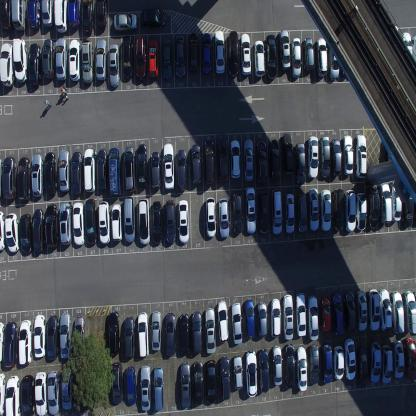car: (3, 320, 18, 369), (12, 37, 28, 82), (108, 146, 121, 197), (0, 42, 15, 86), (18, 318, 32, 365), (2, 156, 17, 199), (45, 203, 59, 248), (20, 373, 35, 415), (245, 349, 258, 397), (68, 38, 82, 82), (5, 212, 20, 253), (5, 374, 20, 415), (137, 311, 150, 358), (123, 146, 136, 193), (17, 155, 30, 202), (46, 314, 59, 361), (28, 43, 41, 89), (83, 147, 96, 193), (47, 370, 60, 416), (138, 197, 150, 246), (378, 182, 392, 224), (134, 35, 147, 80), (281, 131, 294, 176), (33, 313, 46, 358), (264, 33, 276, 81), (123, 195, 135, 243), (204, 306, 216, 354), (282, 292, 294, 340), (366, 187, 380, 228), (81, 40, 94, 84), (98, 201, 111, 245), (379, 287, 392, 331), (403, 289, 416, 333), (72, 202, 85, 246), (59, 202, 72, 246), (32, 208, 45, 252), (108, 310, 121, 354), (85, 197, 97, 244), (296, 345, 308, 392), (110, 361, 123, 404), (203, 139, 215, 185), (136, 142, 148, 188), (328, 35, 340, 81), (179, 362, 191, 408), (307, 295, 319, 341), (35, 370, 47, 416), (42, 38, 55, 80), (315, 36, 328, 78), (19, 212, 32, 254), (60, 368, 73, 410), (190, 311, 202, 356), (164, 199, 176, 244), (192, 360, 204, 405), (332, 291, 344, 336), (74, 314, 86, 359), (60, 311, 71, 360), (151, 200, 163, 244), (174, 34, 186, 78), (53, 0, 69, 33), (163, 142, 174, 190), (400, 30, 412, 74), (355, 134, 367, 178), (245, 186, 256, 234), (258, 190, 270, 234), (344, 189, 356, 233), (402, 184, 414, 228), (217, 300, 229, 344), (344, 289, 356, 333), (368, 287, 380, 331), (44, 151, 56, 195), (219, 356, 231, 400), (258, 348, 270, 392), (404, 336, 416, 380), (228, 29, 239, 76), (271, 188, 282, 235), (295, 291, 306, 338), (231, 192, 243, 235), (356, 289, 368, 332), (31, 153, 43, 196), (165, 311, 176, 357), (284, 342, 295, 388), (140, 366, 151, 412), (218, 196, 230, 238), (296, 192, 308, 234), (392, 290, 404, 332), (141, 8, 166, 28), (178, 199, 189, 244), (122, 35, 133, 80), (109, 43, 120, 88), (11, 0, 26, 33), (217, 138, 228, 183), (243, 138, 254, 183), (269, 138, 280, 183), (308, 187, 319, 232), (71, 151, 82, 196), (152, 367, 163, 412), (124, 315, 135, 360), (340, 37, 352, 78), (390, 180, 402, 221), (205, 195, 216, 239), (179, 312, 190, 356), (201, 31, 212, 75), (214, 30, 225, 74), (56, 37, 67, 81), (96, 148, 107, 192), (295, 142, 306, 186), (307, 135, 318, 179), (320, 187, 331, 231), (231, 301, 242, 345), (344, 337, 355, 381), (229, 139, 241, 179), (330, 137, 342, 177), (308, 344, 320, 384), (381, 344, 393, 384), (240, 32, 251, 75), (176, 149, 187, 192), (333, 188, 344, 231), (59, 149, 70, 192), (357, 346, 368, 389), (253, 39, 265, 78), (151, 310, 162, 352), (279, 28, 290, 70), (190, 144, 201, 186), (244, 298, 255, 340), (270, 296, 281, 338), (370, 340, 381, 382), (257, 140, 267, 186), (206, 359, 216, 405), (162, 41, 174, 79), (256, 300, 268, 338), (284, 192, 295, 233), (126, 365, 137, 406), (96, 37, 106, 82), (303, 37, 315, 74), (320, 296, 332, 333), (189, 30, 199, 74), (111, 203, 122, 243), (150, 150, 161, 190), (320, 136, 330, 180), (356, 191, 367, 231), (321, 344, 332, 384), (113, 13, 137, 31), (82, 0, 94, 36), (291, 37, 301, 78), (343, 135, 353, 176), (272, 345, 282, 386), (28, 0, 41, 31), (148, 39, 158, 79), (394, 339, 404, 379), (232, 354, 243, 390), (333, 345, 344, 381), (67, 0, 80, 30), (0, 0, 12, 31), (41, 0, 53, 29), (95, 0, 107, 27), (0, 372, 6, 415), (0, 210, 6, 251), (0, 320, 5, 363), (412, 34, 416, 76), (0, 158, 4, 198)
